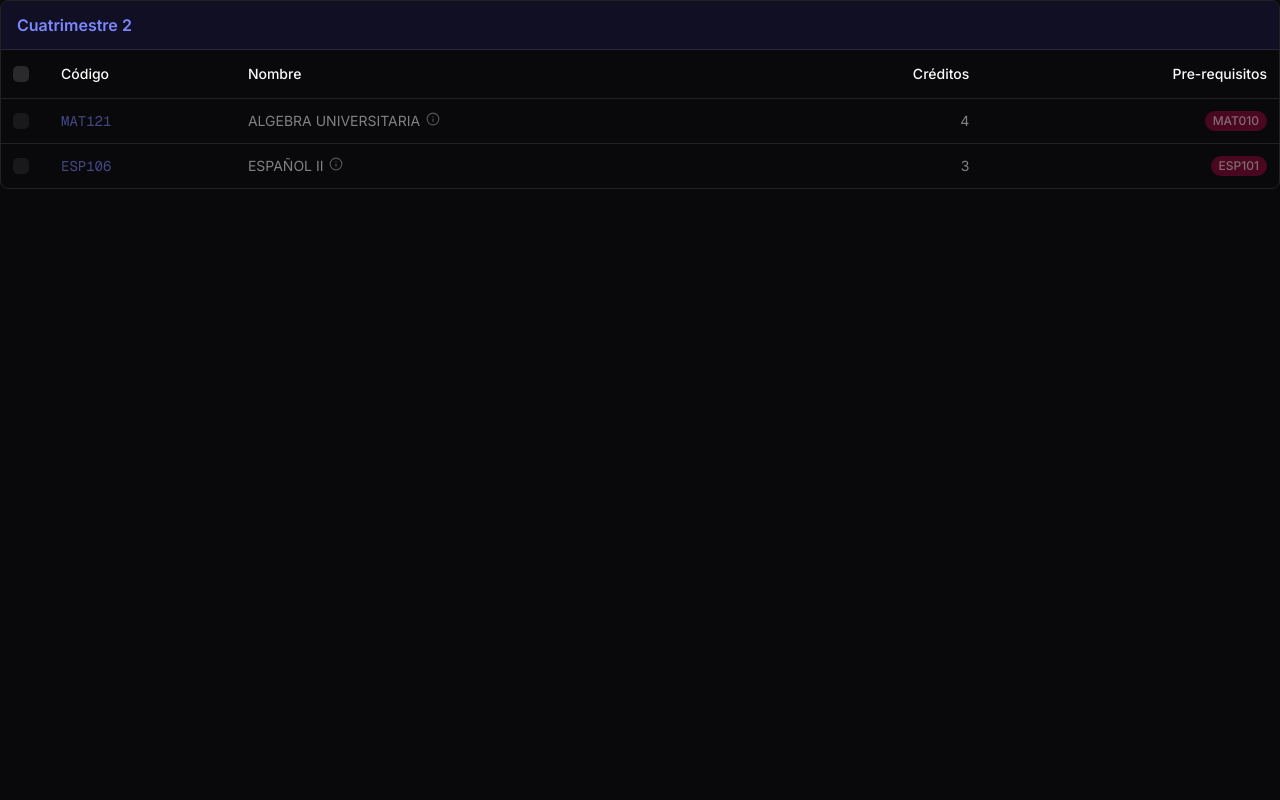
Test: PeriodTable — subject selection › shows prerequisite alert when clicking a disabled subject
Step 1. Click the text "MAT121" → [640, 120], box x1=1 y1=98 x2=1279 y2=143
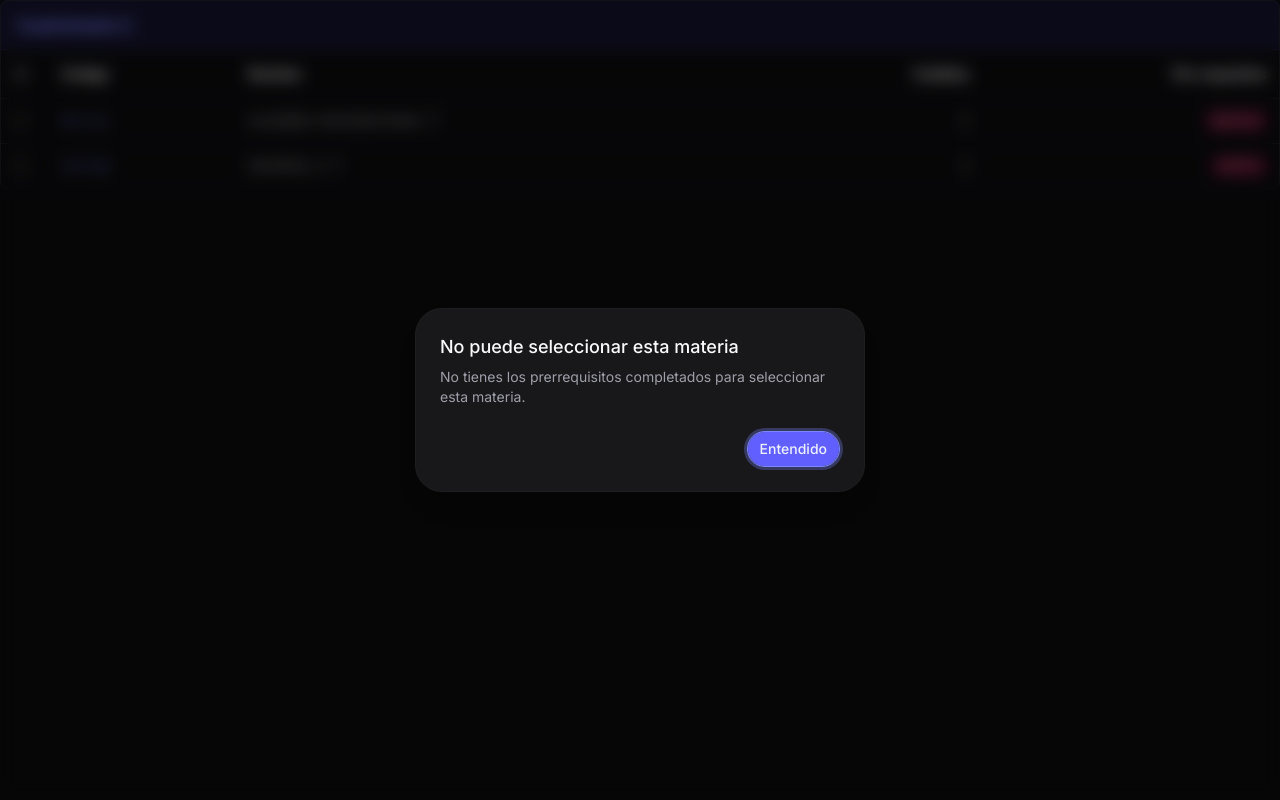
expect the dialog is shown: met, box x1=416 y1=309 x2=864 y2=491
Step 2. Click the button "Entendido" → [793, 449], box x1=747 y1=431 x2=840 y2=467
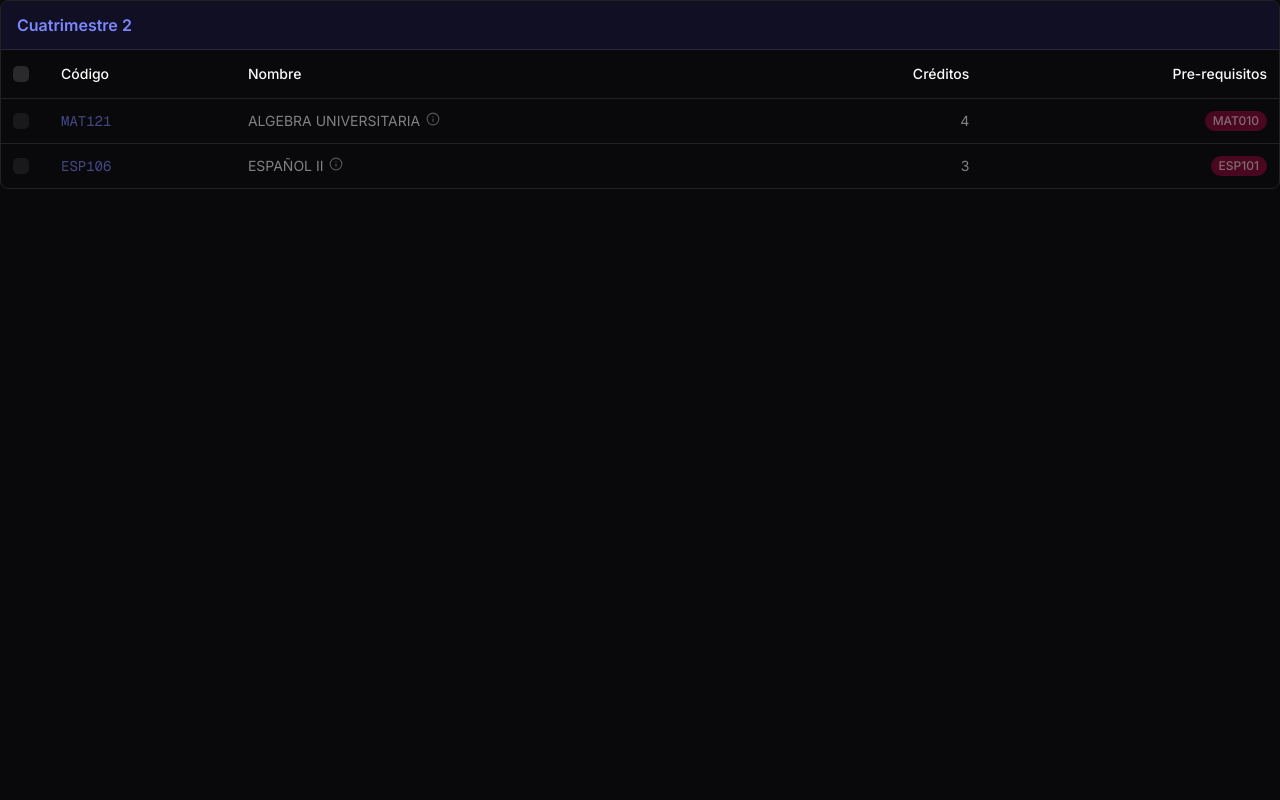
expect the dialog is gone: met
